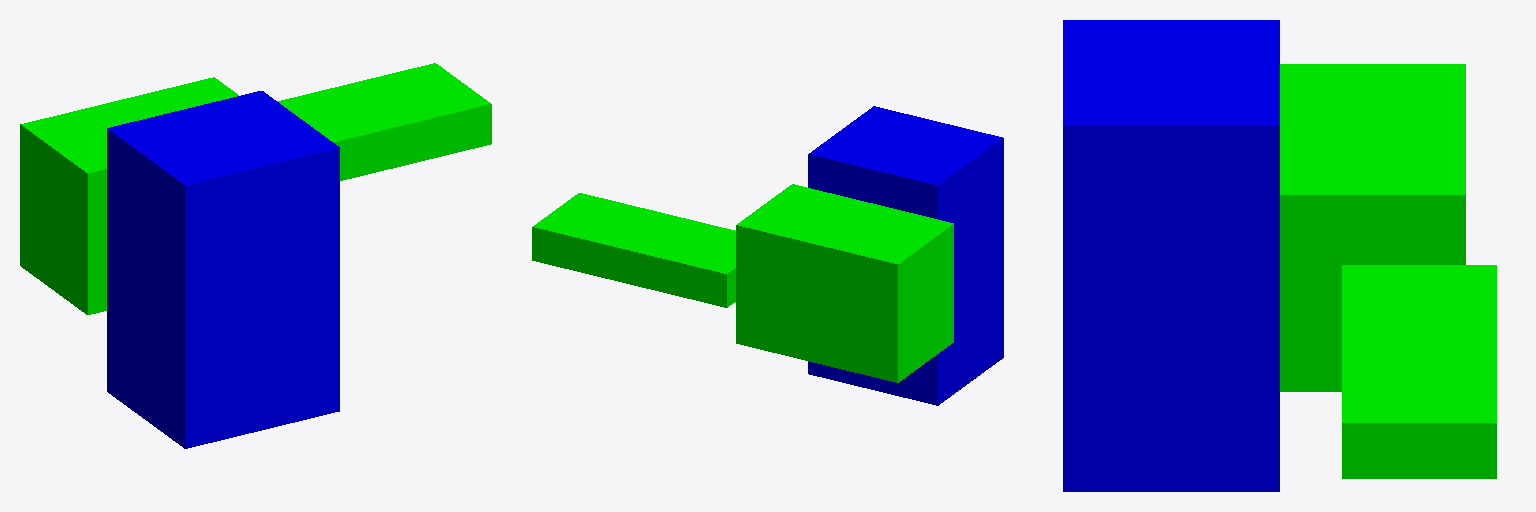
robot.urdf — robot:
<robot name = "robot">
    <link name="root">
        <inertial>
            <origin xyz="0.0 0.0 1.5" rpy="0 0 0"/>
            <mass value="1" />
            <inertia ixx="100" ixy="0" ixz="0" iyy="100" iyz="0" izz="100" />
        </inertial>
        <visual>
            <origin xyz="0.0 0.0 1.5" rpy="0 0 0"/>
            <geometry>
                <box size="0 0 0.0001" />
            </geometry>
            <material name="Green">
                <color rgba="0 1.0 0.0 1.0"/>
            </material>
        </visual>
        <collision>
            <origin xyz="0.0 0.0 1.5" rpy="0 0 0"/>
            <geometry>
                <box size="0 0 0.0001" />
            </geometry>
        </collision>
    </link>
    <joint name="root_000" type="revolute">
       <parent link="root"/>
       <child  link="000"/>
       <origin rpy="0 0 0" xyz="0.0 0.0 1.5" />
     <axis xyz="1 0 0"/>
       <limit effort="0.0" lower="-3.14159" upper="3.14159" velocity="0.0"/>
    </joint>
    <link name="000">
        <inertial>
            <origin xyz="0.2 0.0 0.0" rpy="0 0 0"/>
            <mass value="1" />
            <inertia ixx="100" ixy="0" ixz="0" iyy="100" iyz="0" izz="100" />
        </inertial>
        <visual>
            <origin xyz="0.2 0.0 0.0" rpy="0 0 0"/>
            <geometry>
                <box size="0.4 0.7 0.3" />
            </geometry>
            <material name="Blue">
                <color rgba="0 0.0 1.0 1.0"/>
            </material>
        </visual>
        <collision>
            <origin xyz="0.2 0.0 0.0" rpy="0 0 0"/>
            <geometry>
                <box size="0.4 0.7 0.3" />
            </geometry>
        </collision>
    </link>
    <joint name="000_010" type="revolute">
       <parent link="000"/>
       <child  link="010"/>
       <origin rpy="0 0 0" xyz="0.4 0.0 -0.0" />
     <axis xyz="1 0 0"/>
       <limit effort="0.0" lower="-3.14159" upper="3.14159" velocity="0.0"/>
    </joint>
    <link name="010">
        <inertial>
            <origin xyz="0.2 0.0 -0.0" rpy="0 0 0"/>
            <mass value="1" />
            <inertia ixx="100" ixy="0" ixz="0" iyy="100" iyz="0" izz="100" />
        </inertial>
        <visual>
            <origin xyz="0.2 0.0 -0.0" rpy="0 0 0"/>
            <geometry>
                <box size="0.4 0.7 0.3" />
            </geometry>
            <material name="Blue">
                <color rgba="0 0.0 1.0 1.0"/>
            </material>
        </visual>
        <collision>
            <origin xyz="0.2 0.0 -0.0" rpy="0 0 0"/>
            <geometry>
                <box size="0.4 0.7 0.3" />
            </geometry>
        </collision>
    </link>
    <joint name="010_010-100" type="revolute">
       <parent link="010"/>
       <child  link="010-100"/>
       <origin rpy="0 0 0" xyz="0.2 0.0 -0.15" />
     <axis xyz="0 0 1"/>
       <limit effort="0.0" lower="-3.14159" upper="3.14159" velocity="0.0"/>
    </joint>
    <link name="010-100">
        <inertial>
            <origin xyz="0.0 0.0 -0.25" rpy="0 0 0"/>
            <mass value="1" />
            <inertia ixx="100" ixy="0" ixz="0" iyy="100" iyz="0" izz="100" />
        </inertial>
        <visual>
            <origin xyz="0.0 0.0 -0.25" rpy="0 0 0"/>
            <geometry>
                <box size="0.4 0.7 0.5" />
            </geometry>
            <material name="Blue">
                <color rgba="0 0.0 1.0 1.0"/>
            </material>
        </visual>
        <collision>
            <origin xyz="0.0 0.0 -0.25" rpy="0 0 0"/>
            <geometry>
                <box size="0.4 0.7 0.5" />
            </geometry>
        </collision>
    </link>
    <joint name="010-100_010-110" type="revolute">
       <parent link="010-100"/>
       <child  link="010-110"/>
       <origin rpy="0 0 0" xyz="0.0 0.0 -0.5" />
     <axis xyz="0 0 1"/>
       <limit effort="0.0" lower="-3.14159" upper="3.14159" velocity="0.0"/>
    </joint>
    <link name="010-110">
        <inertial>
            <origin xyz="0.0 0.0 -0.25" rpy="0 0 0"/>
            <mass value="1" />
            <inertia ixx="100" ixy="0" ixz="0" iyy="100" iyz="0" izz="100" />
        </inertial>
        <visual>
            <origin xyz="0.0 0.0 -0.25" rpy="0 0 0"/>
            <geometry>
                <box size="0.4 0.7 0.5" />
            </geometry>
            <material name="Blue">
                <color rgba="0 0.0 1.0 1.0"/>
            </material>
        </visual>
        <collision>
            <origin xyz="0.0 0.0 -0.25" rpy="0 0 0"/>
            <geometry>
                <box size="0.4 0.7 0.5" />
            </geometry>
        </collision>
    </link>
    <joint name="010-100_010-100-200" type="revolute">
       <parent link="010-100"/>
       <child  link="010-100-200"/>
       <origin rpy="0 0 0" xyz="0.0 0.35 -0.25" />
     <axis xyz="0 1 0"/>
       <limit effort="0.0" lower="-3.14159" upper="3.14159" velocity="0.0"/>
    </joint>
    <link name="010-100-200">
        <inertial>
            <origin xyz="0.0 0.15 -0.0" rpy="0 0 0"/>
            <mass value="1" />
            <inertia ixx="100" ixy="0" ixz="0" iyy="100" iyz="0" izz="100" />
        </inertial>
        <visual>
            <origin xyz="0.0 0.15 -0.0" rpy="0 0 0"/>
            <geometry>
                <box size="0.6 0.3 0.7" />
            </geometry>
            <material name="Green">
                <color rgba="0 1.0 0.0 1.0"/>
            </material>
        </visual>
        <collision>
            <origin xyz="0.0 0.15 -0.0" rpy="0 0 0"/>
            <geometry>
                <box size="0.6 0.3 0.7" />
            </geometry>
        </collision>
    </link>
    <joint name="010-100-200_010-100-210" type="revolute">
       <parent link="010-100-200"/>
       <child  link="010-100-210"/>
       <origin rpy="0 0 0" xyz="0.0 0.3 -0.0" />
     <axis xyz="0 1 0"/>
       <limit effort="0.0" lower="-3.14159" upper="3.14159" velocity="0.0"/>
    </joint>
    <link name="010-100-210">
        <inertial>
            <origin xyz="0.0 0.15 -0.0" rpy="0 0 0"/>
            <mass value="1" />
            <inertia ixx="100" ixy="0" ixz="0" iyy="100" iyz="0" izz="100" />
        </inertial>
        <visual>
            <origin xyz="0.0 0.15 -0.0" rpy="0 0 0"/>
            <geometry>
                <box size="0.6 0.3 0.7" />
            </geometry>
            <material name="Green">
                <color rgba="0 1.0 0.0 1.0"/>
            </material>
        </visual>
        <collision>
            <origin xyz="0.0 0.15 -0.0" rpy="0 0 0"/>
            <geometry>
                <box size="0.6 0.3 0.7" />
            </geometry>
        </collision>
    </link>
    <joint name="010-100-210_010-100-210-300" type="revolute">
       <parent link="010-100-210"/>
       <child  link="010-100-210-300"/>
       <origin rpy="0 0 0" xyz="0.3 0.15 -0.0" />
     <axis xyz="1 0 0"/>
       <limit effort="0.0" lower="-3.14159" upper="3.14159" velocity="0.0"/>
    </joint>
    <link name="010-100-210-300">
        <inertial>
            <origin xyz="0.2 0.0 -0.0" rpy="0 0 0"/>
            <mass value="1" />
            <inertia ixx="100" ixy="0" ixz="0" iyy="100" iyz="0" izz="100" />
        </inertial>
        <visual>
            <origin xyz="0.2 0.0 -0.0" rpy="0 0 0"/>
            <geometry>
                <box size="0.4 0.5 0.2" />
            </geometry>
            <material name="Green">
                <color rgba="0 1.0 0.0 1.0"/>
            </material>
        </visual>
        <collision>
            <origin xyz="0.2 0.0 -0.0" rpy="0 0 0"/>
            <geometry>
                <box size="0.4 0.5 0.2" />
            </geometry>
        </collision>
    </link>
    <joint name="010-100-210-300_010-100-210-310" type="revolute">
       <parent link="010-100-210-300"/>
       <child  link="010-100-210-310"/>
       <origin rpy="0 0 0" xyz="0.4 0.0 -0.0" />
     <axis xyz="1 0 0"/>
       <limit effort="0.0" lower="-3.14159" upper="3.14159" velocity="0.0"/>
    </joint>
    <link name="010-100-210-310">
        <inertial>
            <origin xyz="0.2 0.0 -0.0" rpy="0 0 0"/>
            <mass value="1" />
            <inertia ixx="100" ixy="0" ixz="0" iyy="100" iyz="0" izz="100" />
        </inertial>
        <visual>
            <origin xyz="0.2 0.0 -0.0" rpy="0 0 0"/>
            <geometry>
                <box size="0.4 0.5 0.2" />
            </geometry>
            <material name="Green">
                <color rgba="0 1.0 0.0 1.0"/>
            </material>
        </visual>
        <collision>
            <origin xyz="0.2 0.0 -0.0" rpy="0 0 0"/>
            <geometry>
                <box size="0.4 0.5 0.2" />
            </geometry>
        </collision>
    </link>
    <joint name="010-100-210-310_010-100-210-320" type="revolute">
       <parent link="010-100-210-310"/>
       <child  link="010-100-210-320"/>
       <origin rpy="0 0 0" xyz="0.4 0.0 -0.0" />
     <axis xyz="1 0 0"/>
       <limit effort="0.0" lower="-3.14159" upper="3.14159" velocity="0.0"/>
    </joint>
    <link name="010-100-210-320">
        <inertial>
            <origin xyz="0.2 0.0 -0.0" rpy="0 0 0"/>
            <mass value="1" />
            <inertia ixx="100" ixy="0" ixz="0" iyy="100" iyz="0" izz="100" />
        </inertial>
        <visual>
            <origin xyz="0.2 0.0 -0.0" rpy="0 0 0"/>
            <geometry>
                <box size="0.4 0.5 0.2" />
            </geometry>
            <material name="Green">
                <color rgba="0 1.0 0.0 1.0"/>
            </material>
        </visual>
        <collision>
            <origin xyz="0.2 0.0 -0.0" rpy="0 0 0"/>
            <geometry>
                <box size="0.4 0.5 0.2" />
            </geometry>
        </collision>
    </link>
    <joint name="000_000-100" type="revolute">
       <parent link="000"/>
       <child  link="000-100"/>
       <origin rpy="0 0 0" xyz="0.2 0.0 -0.15" />
     <axis xyz="0 0 1"/>
       <limit effort="0.0" lower="-3.14159" upper="3.14159" velocity="0.0"/>
    </joint>
    <link name="000-100">
        <inertial>
            <origin xyz="0.0 0.0 -0.25" rpy="0 0 0"/>
            <mass value="1" />
            <inertia ixx="100" ixy="0" ixz="0" iyy="100" iyz="0" izz="100" />
        </inertial>
        <visual>
            <origin xyz="0.0 0.0 -0.25" rpy="0 0 0"/>
            <geometry>
                <box size="0.4 0.7 0.5" />
            </geometry>
            <material name="Blue">
                <color rgba="0 0.0 1.0 1.0"/>
            </material>
        </visual>
        <collision>
            <origin xyz="0.0 0.0 -0.25" rpy="0 0 0"/>
            <geometry>
                <box size="0.4 0.7 0.5" />
            </geometry>
        </collision>
    </link>
    <joint name="000-100_000-110" type="revolute">
       <parent link="000-100"/>
       <child  link="000-110"/>
       <origin rpy="0 0 0" xyz="0.0 0.0 -0.5" />
     <axis xyz="0 0 1"/>
       <limit effort="0.0" lower="-3.14159" upper="3.14159" velocity="0.0"/>
    </joint>
    <link name="000-110">
        <inertial>
            <origin xyz="0.0 0.0 -0.25" rpy="0 0 0"/>
            <mass value="1" />
            <inertia ixx="100" ixy="0" ixz="0" iyy="100" iyz="0" izz="100" />
        </inertial>
        <visual>
            <origin xyz="0.0 0.0 -0.25" rpy="0 0 0"/>
            <geometry>
                <box size="0.4 0.7 0.5" />
            </geometry>
            <material name="Blue">
                <color rgba="0 0.0 1.0 1.0"/>
            </material>
        </visual>
        <collision>
            <origin xyz="0.0 0.0 -0.25" rpy="0 0 0"/>
            <geometry>
                <box size="0.4 0.7 0.5" />
            </geometry>
        </collision>
    </link>
    <joint name="000-100_000-100-200" type="revolute">
       <parent link="000-100"/>
       <child  link="000-100-200"/>
       <origin rpy="0 0 0" xyz="0.0 0.35 -0.25" />
     <axis xyz="0 1 0"/>
       <limit effort="0.0" lower="-3.14159" upper="3.14159" velocity="0.0"/>
    </joint>
    <link name="000-100-200">
        <inertial>
            <origin xyz="0.0 0.15 -0.0" rpy="0 0 0"/>
            <mass value="1" />
            <inertia ixx="100" ixy="0" ixz="0" iyy="100" iyz="0" izz="100" />
        </inertial>
        <visual>
            <origin xyz="0.0 0.15 -0.0" rpy="0 0 0"/>
            <geometry>
                <box size="0.6 0.3 0.7" />
            </geometry>
            <material name="Green">
                <color rgba="0 1.0 0.0 1.0"/>
            </material>
        </visual>
        <collision>
            <origin xyz="0.0 0.15 -0.0" rpy="0 0 0"/>
            <geometry>
                <box size="0.6 0.3 0.7" />
            </geometry>
        </collision>
    </link>
    <joint name="000-100-200_000-100-210" type="revolute">
       <parent link="000-100-200"/>
       <child  link="000-100-210"/>
       <origin rpy="0 0 0" xyz="0.0 0.3 -0.0" />
     <axis xyz="0 1 0"/>
       <limit effort="0.0" lower="-3.14159" upper="3.14159" velocity="0.0"/>
    </joint>
    <link name="000-100-210">
        <inertial>
            <origin xyz="0.0 0.15 -0.0" rpy="0 0 0"/>
            <mass value="1" />
            <inertia ixx="100" ixy="0" ixz="0" iyy="100" iyz="0" izz="100" />
        </inertial>
        <visual>
            <origin xyz="0.0 0.15 -0.0" rpy="0 0 0"/>
            <geometry>
                <box size="0.6 0.3 0.7" />
            </geometry>
            <material name="Green">
                <color rgba="0 1.0 0.0 1.0"/>
            </material>
        </visual>
        <collision>
            <origin xyz="0.0 0.15 -0.0" rpy="0 0 0"/>
            <geometry>
                <box size="0.6 0.3 0.7" />
            </geometry>
        </collision>
    </link>
</robot>

--- Facts derived from the render (not from the file) ---
Views: 3 orthographic renders of the robot side by side, from view 1: azimuth 30°, elevation 25°; view 2: azimuth 150°, elevation 25°; view 3: azimuth 270°, elevation 25°.
Robot: robot — 14 links, 13 joints (13 revolute); root link root; default pose: every joint at zero.
Visible links, largest first — view 1: [phone redacted] (×5), 000-100, 000-110, 000, 010, 010-100, 010-110; view 2: [phone redacted] (×7), 000, 000-110, 010, 000-100, 010-110; view 3: [phone redacted] (×7), 010-100, 010-110, 010, 000.
Link boxes in pixels (<box>): [phone redacted] (×5): <box>20,63,491,314</box>; 000-100: <box>107,189,262,347</box>; 000-110: <box>107,291,262,448</box>; 000: <box>107,109,262,245</box>; 010: <box>185,91,339,226</box>; 010-100: <box>263,209,339,328</box>; 010-110: <box>263,310,339,429</box>; [phone redacted] (×7): <box>532,184,953,382</box>; 000: <box>873,122,1003,223</box>; 000-110: <box>873,273,1003,405</box>; 010: <box>808,106,937,202</box>; 000-100: <box>954,189,1003,308</box>; 010-110: <box>808,361,872,389</box>; [phone redacted] (×7): <box>1280,64,1496,478</box>; 010-100: <box>1063,210,1279,350</box>; 010-110: <box>1063,351,1279,491</box>; 010: <box>1063,73,1279,209</box>; 000: <box>1063,20,1279,72</box>.
Bounding box of the posed robot: 2.2 × 1.4 × 1.3 m (x, y, z).
Geometry: primitives only (box / cylinder / sphere), no mesh files.
